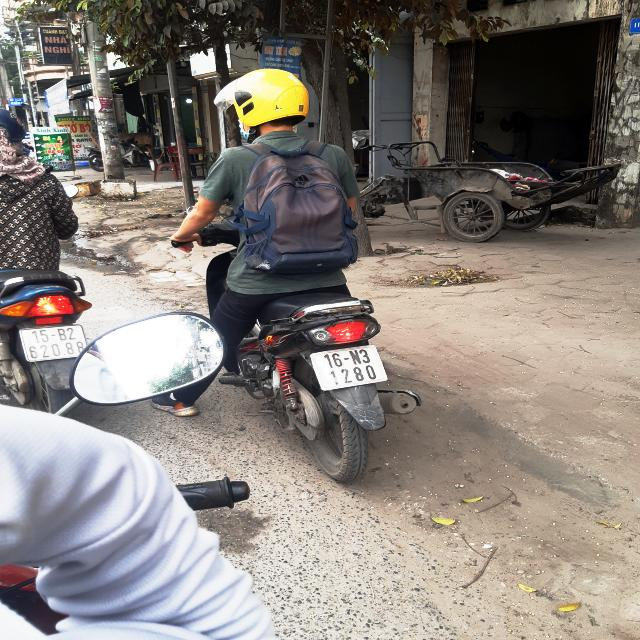license_plate: (304, 342, 394, 396), (12, 321, 93, 368)
